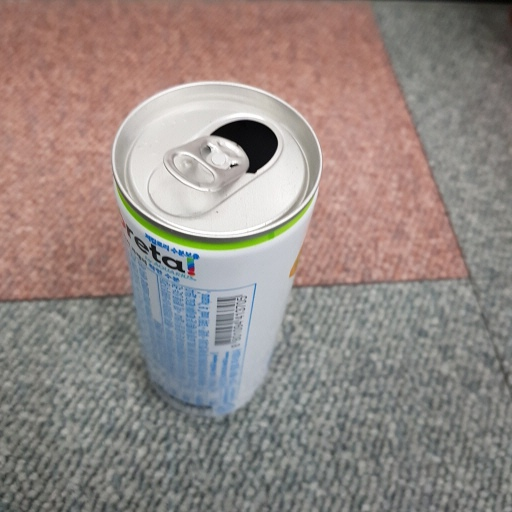Metal_0: (110, 80, 322, 425)
